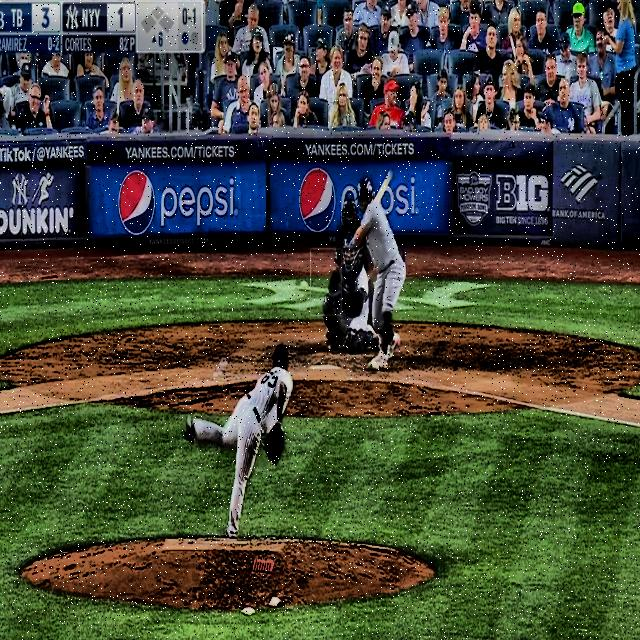baseball: (301, 280, 308, 290)
